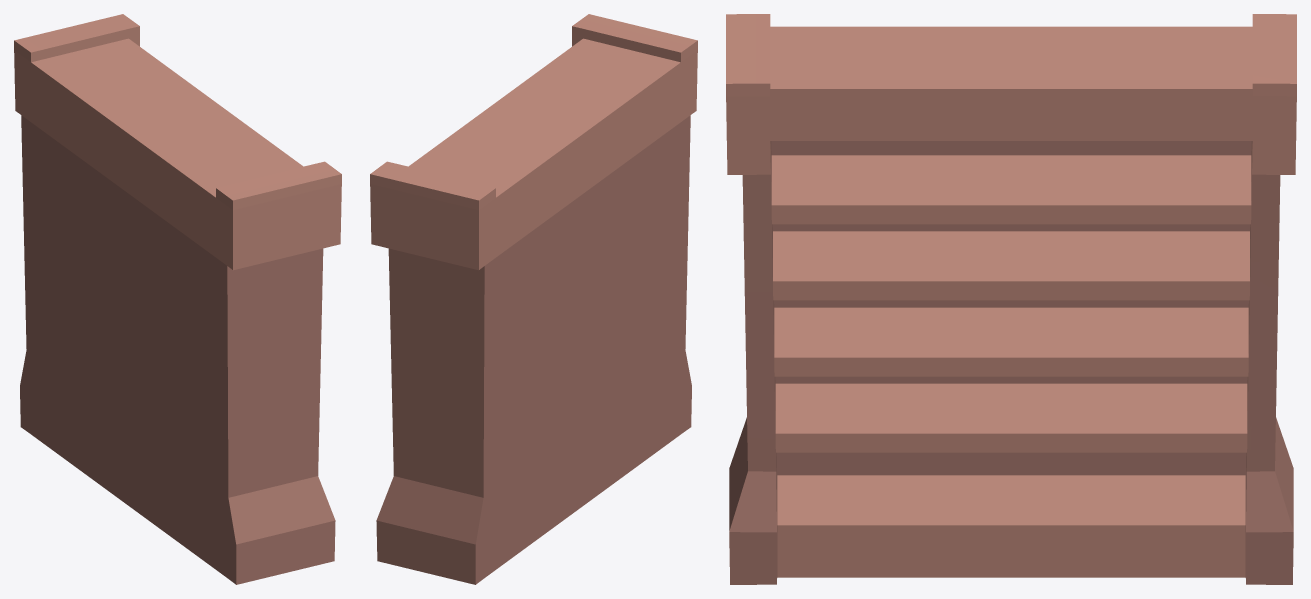
File: BookCaseLarge.glb
3 renders of one model, left to right at view 1: azimuth 30°, elevation 25°; view 2: azimuth 150°, elevation 25°; view 3: azimuth 270°, elevation 25°, orthographic. The views are drawn at different scales.
Visible parts, largest first — view 1: DarkWood.004, Wood.006; view 2: DarkWood.004, Wood.006; view 3: Wood.006, DarkWood.004.
Part boxes in pixels (x1,y1,x2,y2): DarkWood.004: (20, 115, 335, 584); Wood.006: (14, 14, 341, 270); DarkWood.004: (376, 115, 691, 584); Wood.006: (370, 14, 697, 270); Wood.006: (726, 14, 1296, 577); DarkWood.004: (729, 141, 1293, 584).
Size of the model in its own units: 0.4519 by 1.53 by 1.57.
